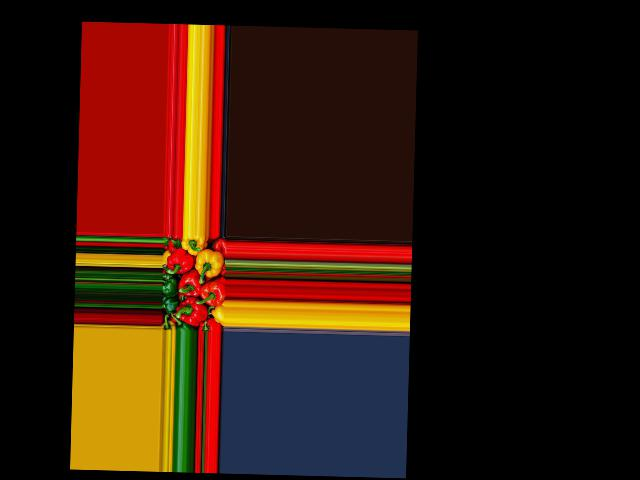bell_pepper: (212, 306, 225, 322)
